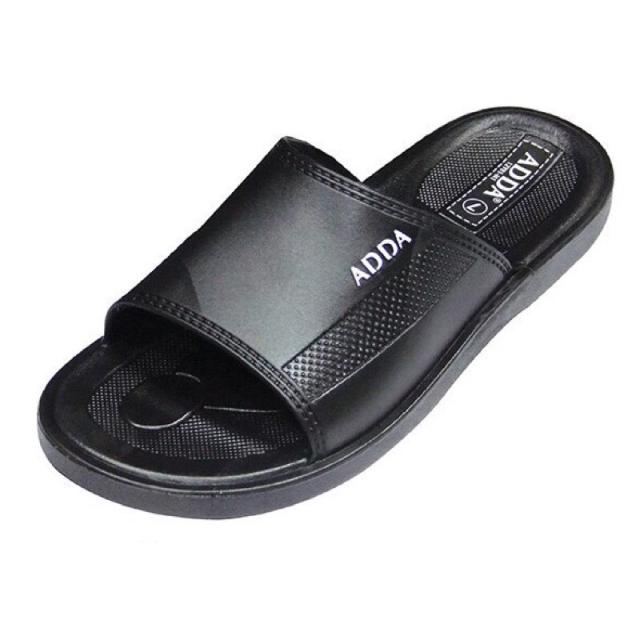shoe: (37, 102, 621, 524)
